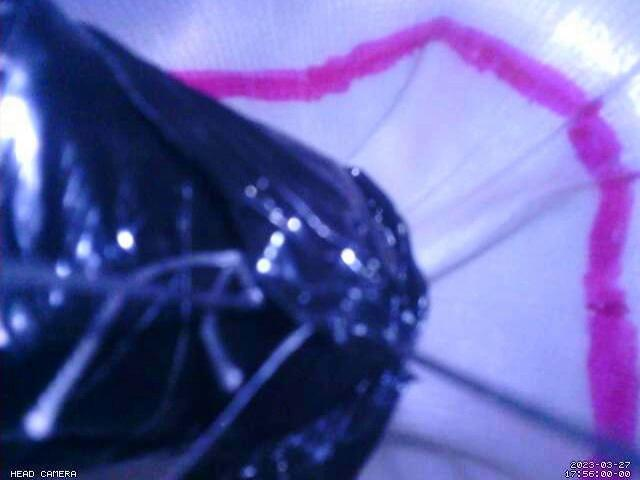red-circle: (168, 14, 640, 480)
